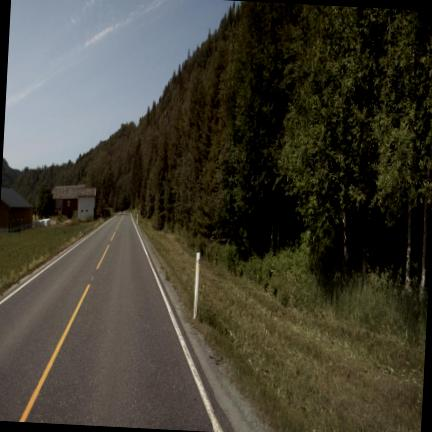Road: (0, 215, 221, 430)
